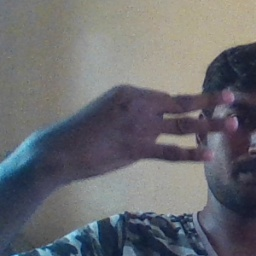K: (80, 82, 241, 171)
